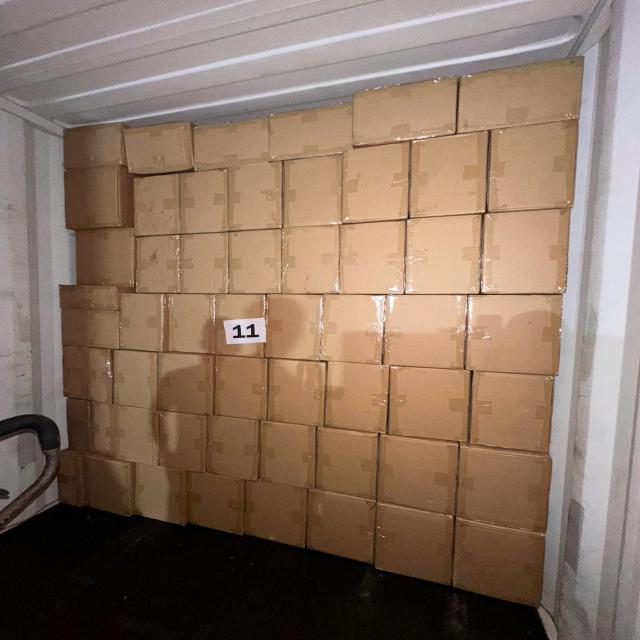Carton: (463, 60, 588, 134), (455, 442, 552, 535), (489, 122, 583, 216), (452, 516, 546, 610), (465, 295, 563, 377), (484, 210, 576, 297), (357, 79, 461, 149), (470, 369, 556, 451), (375, 502, 454, 591), (408, 130, 488, 216), (379, 434, 460, 518), (388, 366, 472, 444), (406, 213, 483, 294), (384, 297, 466, 373), (341, 140, 410, 224), (307, 487, 376, 568), (340, 218, 407, 294), (273, 104, 357, 162), (319, 424, 381, 501), (324, 359, 388, 433), (281, 153, 342, 229), (242, 479, 306, 551), (325, 292, 387, 364), (62, 168, 132, 230), (256, 420, 316, 491), (185, 469, 245, 539), (284, 226, 342, 298), (267, 360, 326, 429), (122, 120, 194, 175), (192, 119, 268, 170), (230, 161, 285, 231), (156, 349, 214, 415), (266, 295, 322, 362), (72, 227, 134, 287), (133, 462, 189, 528), (207, 412, 260, 481), (211, 357, 266, 423), (230, 230, 284, 296), (84, 453, 137, 520), (157, 409, 210, 473), (214, 296, 266, 359), (181, 169, 231, 234), (168, 292, 218, 354), (182, 231, 231, 293), (134, 173, 180, 238), (62, 345, 114, 402), (62, 121, 123, 168), (116, 402, 160, 467), (114, 348, 160, 409), (60, 306, 121, 351), (120, 291, 164, 352), (136, 233, 180, 292), (57, 282, 122, 312), (89, 400, 122, 459), (56, 448, 86, 508), (66, 396, 94, 454)
